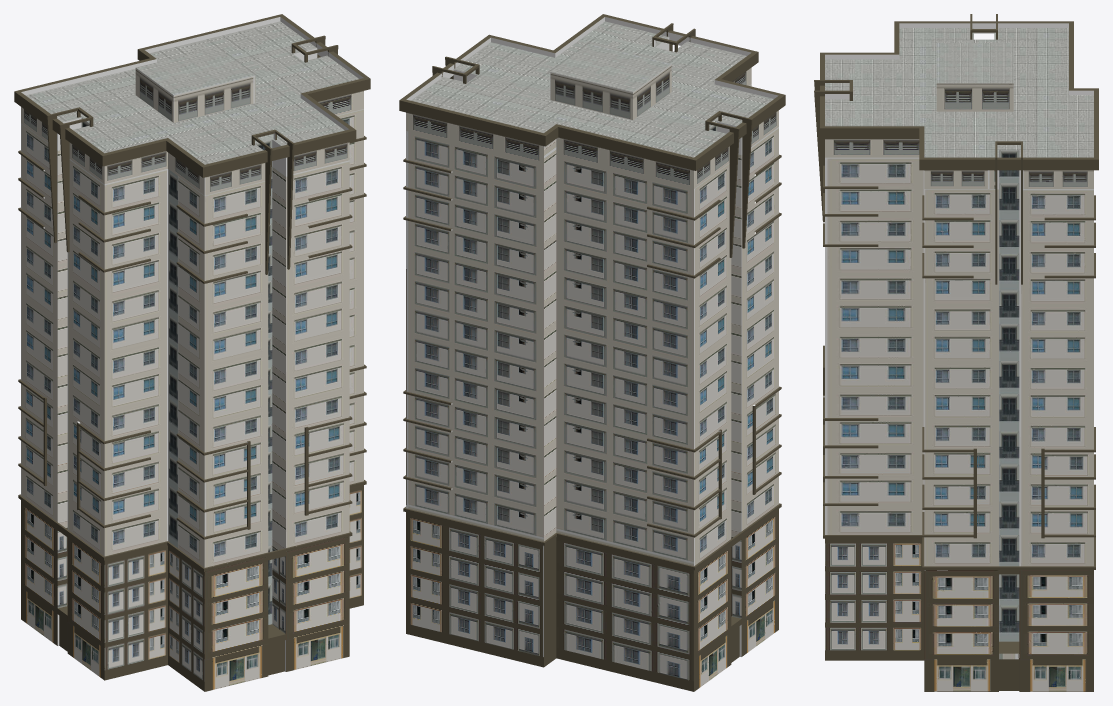
3 renders of one model, left to right at view 1: azimuth 30°, elevation 25°; view 2: azimuth 150°, elevation 25°; view 3: azimuth 270°, elevation 25°, orthographic.
Parts seen in each view (by area): view 1: HN499___Chung_cu_B6B.001; view 2: HN499___Chung_cu_B6B.001; view 3: HN499___Chung_cu_B6B.001.
Boxes of the visible parts, bbox=[...] form: HN499___Chung_cu_B6B.001: bbox=[14, 14, 370, 691]; HN499___Chung_cu_B6B.001: bbox=[399, 14, 785, 691]; HN499___Chung_cu_B6B.001: bbox=[814, 14, 1098, 691].
Size of the model in its own units: 33.13 by 60.01 by 27.76.
1 material, 1 textured.
